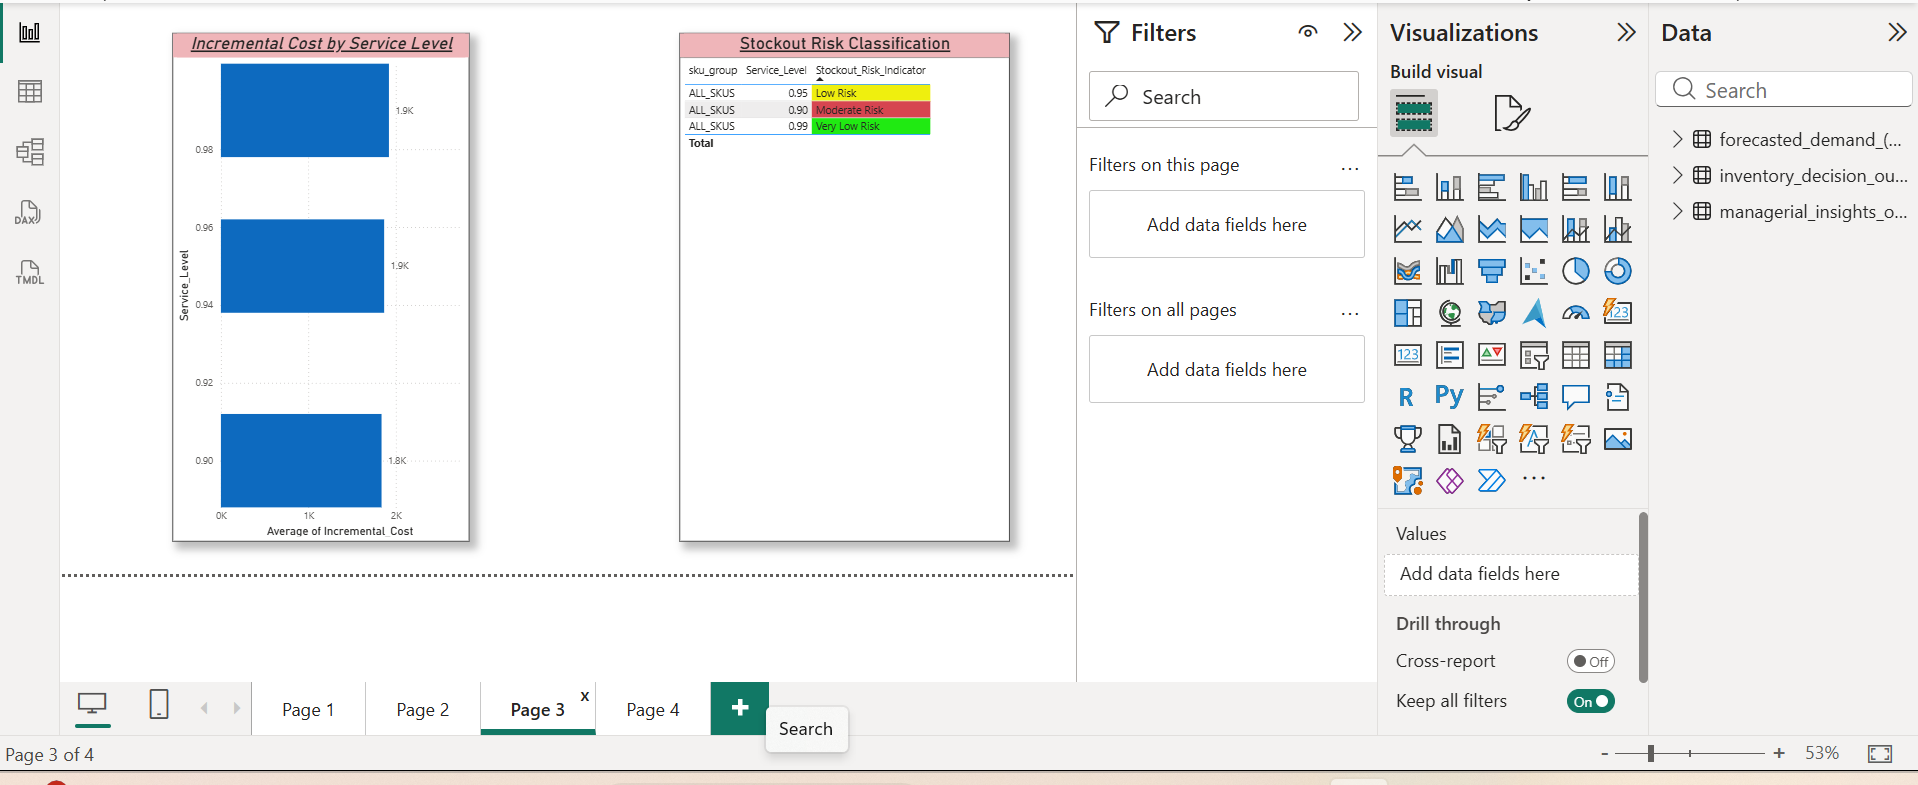

Layout of this report page (visuals, bound fields, positions):
{"tool":"powerbi","page":{"name":"Page 3","canvas":[1280,720],"ordinal":2},"visuals":[{"type":"tableEx","title":"Stockout Risk Classification","fields":{"Values":["managerial_insights_output_(NoteBook4).sku_group","managerial_insights_output_(NoteBook4).Service_Level","managerial_insights_output_(NoteBook4).Stockout_Risk_Indicator"]},"box":[780.5,37.8,415.8,640.6],"z":0},{"type":"clusteredBarChart","title":"Incremental Cost by Service Level","fields":{"Category":["managerial_insights_output_(NoteBook4).Service_Level"],"Y":["Avg(managerial_insights_output_(NoteBook4).Incremental_Cost)"]},"box":[141.7,37.8,374.2,640.6],"z":1000}]}

Visuals, with their boxes on the page's 1280x720 design canvas (x1, y1, x2, y2). These are canvas units, not pixel positions in the 1918x785 screenshot, which may show the page scaled, cropped or inside an application window:
"Stockout Risk Classification" tableEx: [780, 38, 1196, 678]
"Incremental Cost by Service Level" clusteredBarChart: [142, 38, 516, 678]
